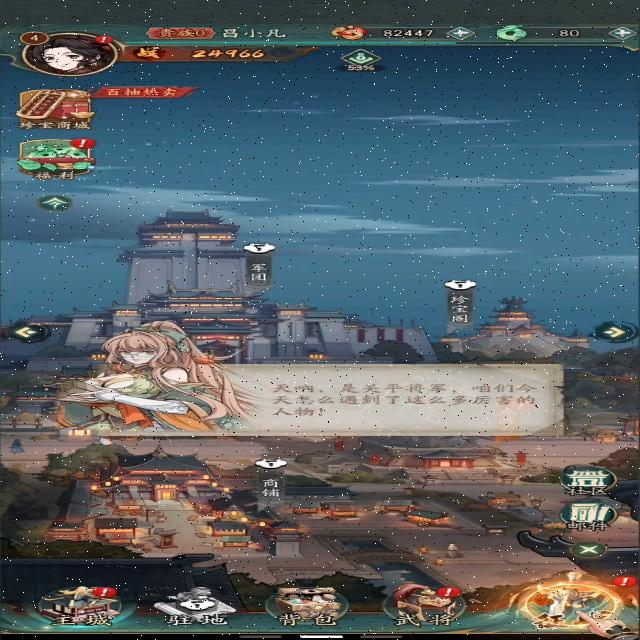hint-guide: (39, 323, 580, 441), (504, 578, 636, 639)
hint-reddot: (65, 136, 99, 152), (87, 34, 122, 48), (430, 584, 459, 600), (610, 573, 639, 589), (89, 585, 119, 599)
navigation-bag: (258, 584, 356, 629)
navigation-community: (550, 463, 618, 495)
navigation-fight: (492, 570, 640, 636)
navigation-hero: (373, 579, 474, 628)
navigation-juntuan-off: (236, 240, 281, 288)
navigation-mail: (554, 498, 630, 534)
navigation-main: (38, 582, 135, 628)
navigation-role: (16, 27, 121, 79)
navigation-shop-off: (247, 456, 290, 504)
navigation-station-off: (149, 583, 243, 629)
navigation-treasureMall: (14, 86, 100, 134)
navigation-welfare: (16, 136, 97, 182)
navigation-zhenbaoge-off: (437, 277, 479, 326)
operation-close: (566, 540, 612, 560)
